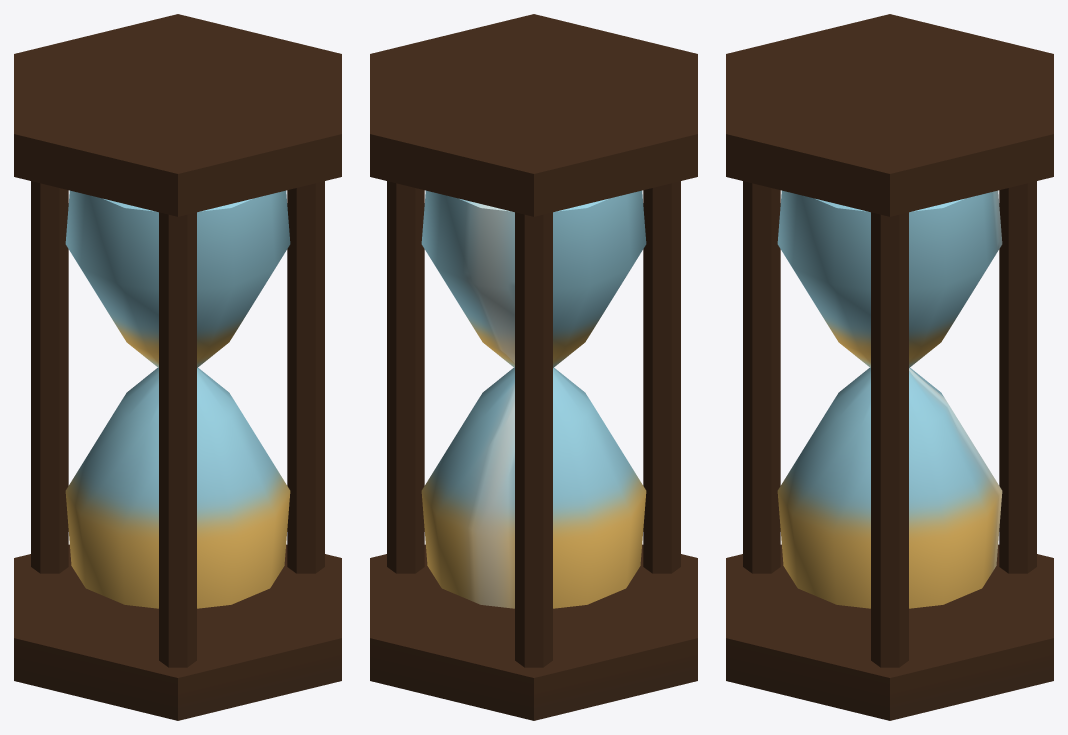
Rendered from Decor_Hourglass.fbx.
3 renders of one model, left to right at view 1: azimuth 30°, elevation 25°; view 2: azimuth 150°, elevation 25°; view 3: azimuth 270°, elevation 25°, orthographic.
Visible parts, largest first — view 1: Decor_Hourglass; view 2: Decor_Hourglass; view 3: Decor_Hourglass.
Boxes of the visible parts, x1,y1,x2,y2 form: Decor_Hourglass: [14, 14, 341, 720]; Decor_Hourglass: [370, 14, 697, 720]; Decor_Hourglass: [726, 14, 1053, 720].
Bounding box in the file's own units: 0.32 × 0.51 × 0.2771.
Materials: 1 (1 with a texture image).
